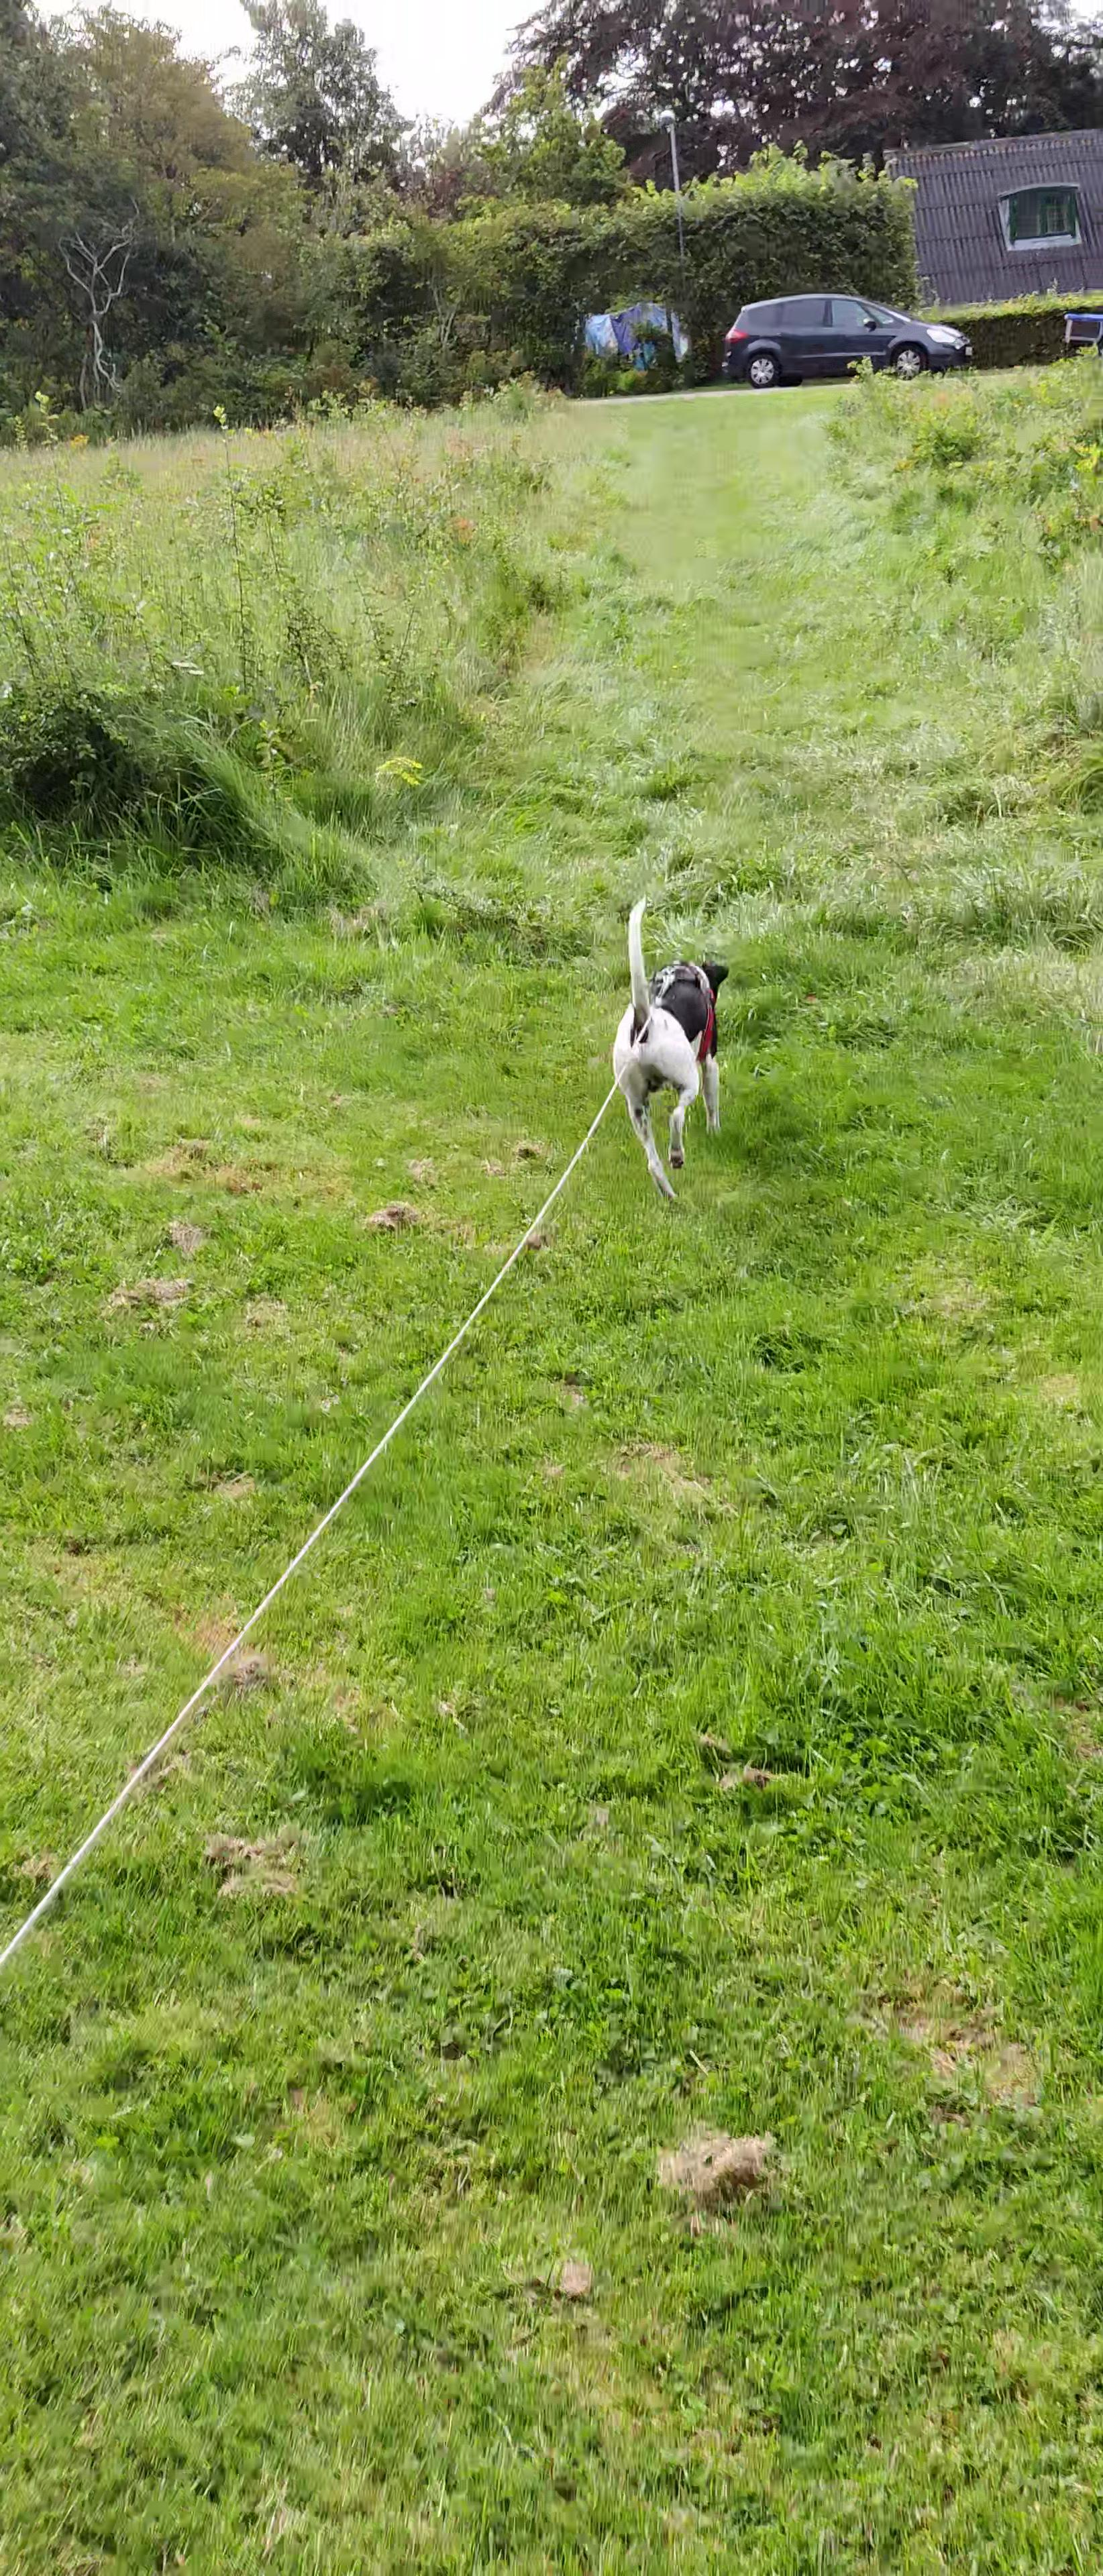Dog: (585, 879, 758, 1226)
